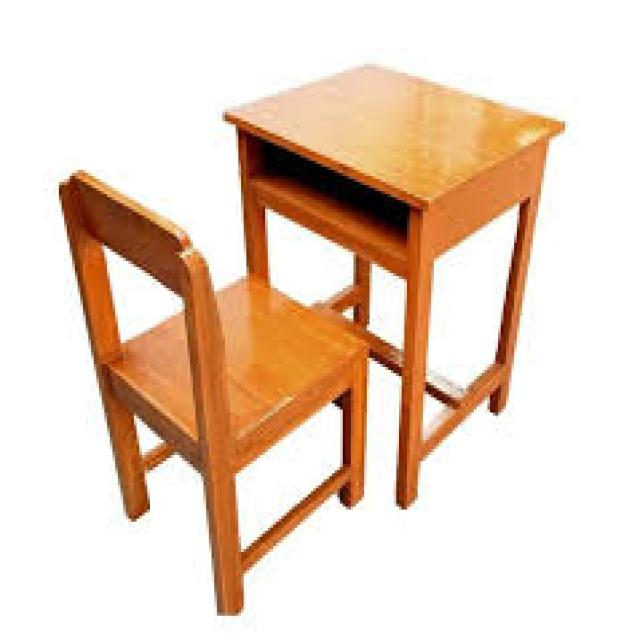chair: (57, 172, 366, 615)
table: (222, 64, 565, 507)
